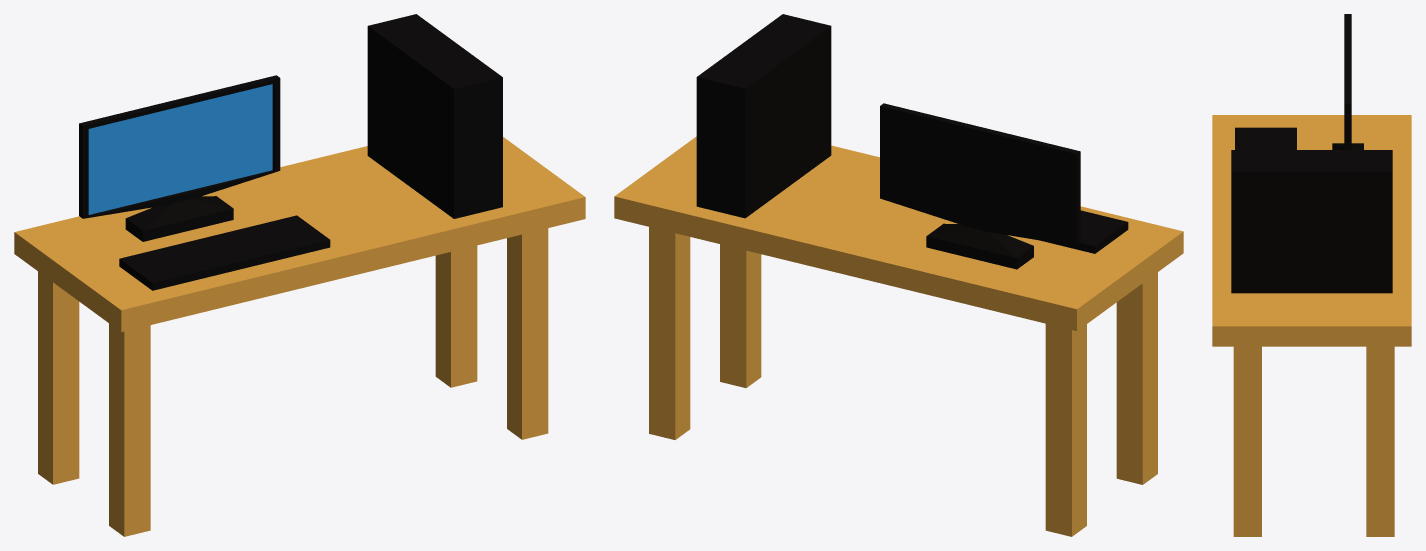
The model's file is computerSetup.fbx.
The picture shows the model from 3 angles, left to right: view 1: azimuth 30°, elevation 25°; view 2: azimuth 150°, elevation 25°; view 3: azimuth 270°, elevation 25°; orthographic projection. The views are drawn at different scales.
Parts seen in each view (by area): view 1: table, moniter, cpu, keyboad; view 2: table, moniter, cpu, keyboad; view 3: table, cpu, keyboad, moniter.
Part boxes in pixels (x1=…): table: x1=14, y1=137, x2=585, y2=536; moniter: x1=79, y1=75, x2=280, y2=241; cpu: x1=367, y1=14, x2=502, y2=218; keyboad: x1=119, y1=215, x2=330, y2=290; table: x1=614, y1=136, x2=1183, y2=536; moniter: x1=880, y1=103, x2=1080, y2=269; cpu: x1=696, y1=14, x2=831, y2=218; keyboad: x1=1041, y1=210, x2=1128, y2=253; table: x1=1212, y1=115, x2=1411, y2=536; cpu: x1=1231, y1=150, x2=1392, y2=293; keyboad: x1=1235, y1=127, x2=1296, y2=149; moniter: x1=1332, y1=14, x2=1363, y2=149.
Bounding box in the file's own units: 691 × 524 × 275.
